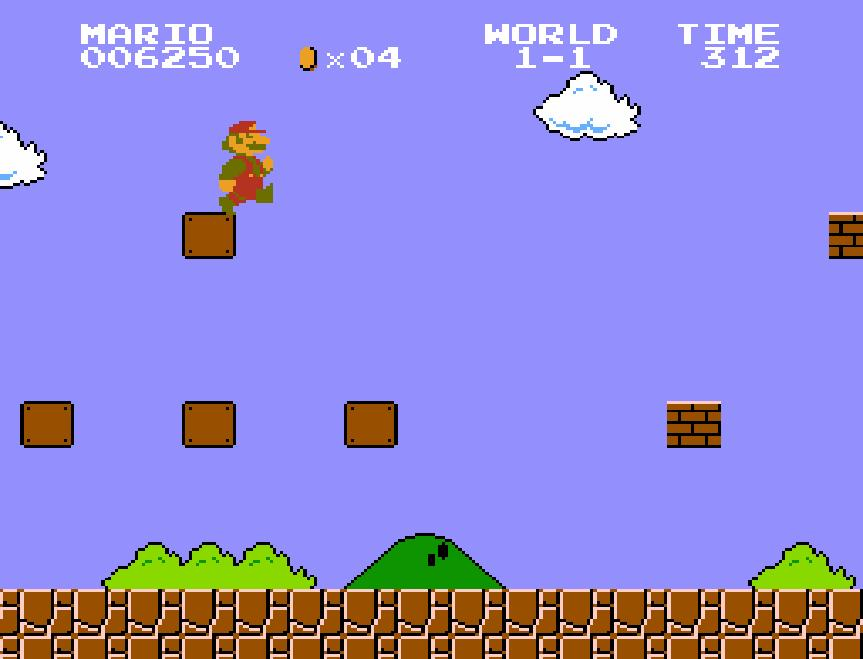big_mario: (217, 118, 274, 216)
